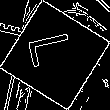L_E: (27, 34, 83, 76)
